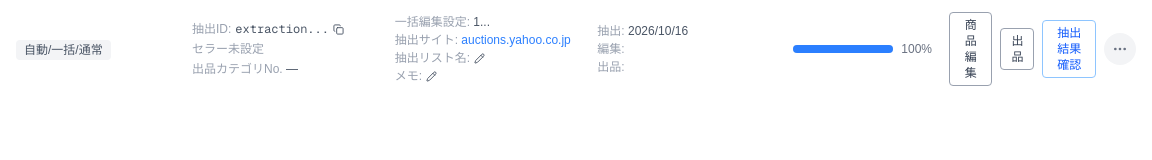
it: 抽出リスト名 › 鉛筆から編集して保存できる（以前は押しても何も起きなかった）
Step 1. Click the button named "抽出リスト名を編集" → (480, 58), box [474,52,485,64]
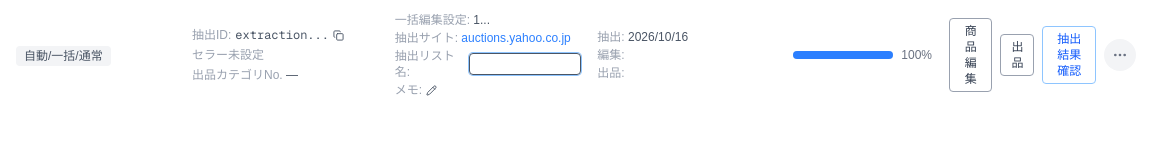
Step 2. Type "リール" into the field → (525, 64), box [469,53,581,75]
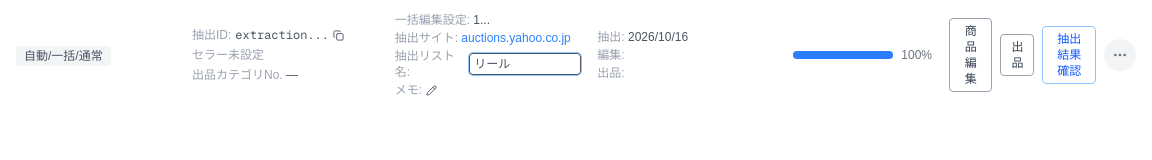
Step 3. Press Enter in the field, box [469,53,581,75]
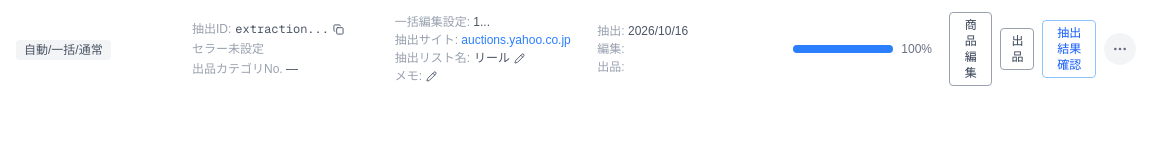
Expected: the text "リール" is shown, [474,50,510,66]
